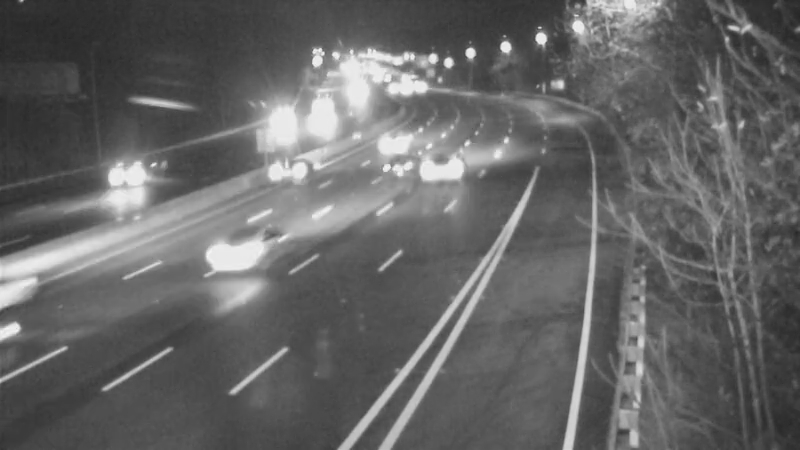vehicle: (403, 125, 483, 205), (355, 127, 435, 207), (243, 134, 323, 214), (184, 216, 264, 296), (88, 135, 168, 215), (1, 248, 67, 328), (380, 104, 430, 154), (256, 96, 306, 146), (300, 96, 350, 146)
